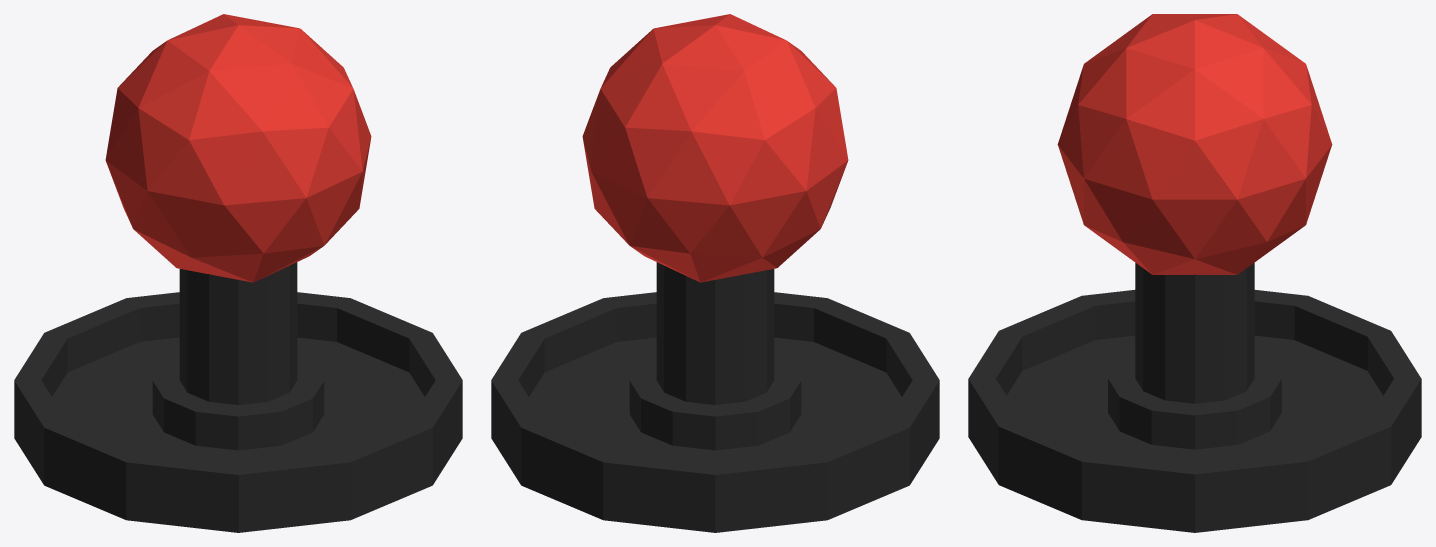
The model's file is joystick.fbx.
3 renders of one model, left to right at view 1: azimuth 30°, elevation 25°; view 2: azimuth 150°, elevation 25°; view 3: azimuth 270°, elevation 25°, orthographic.
Parts seen in each view (by area): view 1: Joystick; view 2: Joystick; view 3: Joystick.
Boxes of the visible parts, x1,y1,x2,y2 form: Joystick: (14,14,462,532); Joystick: (491,14,939,532); Joystick: (968,14,1421,532).
Size of the model in its own units: 49.01 by 49.79 by 49.01.
